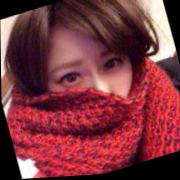WRONG: (38, 27, 148, 154)
